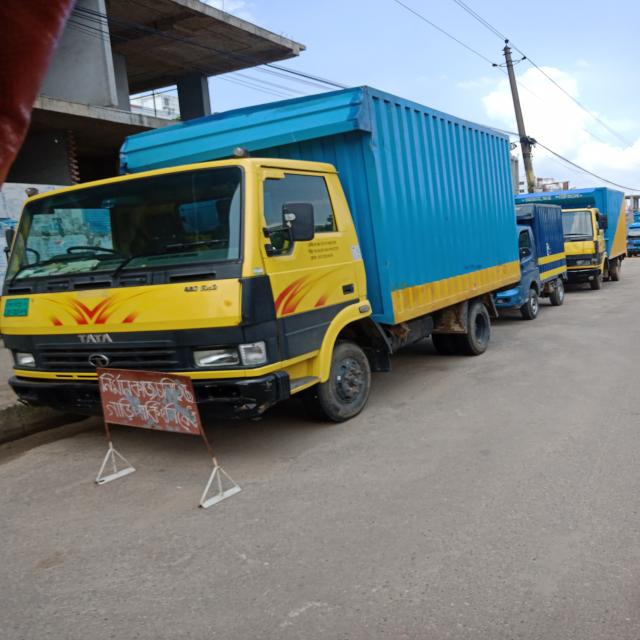truck: (0, 85, 519, 422), (516, 188, 627, 289), (495, 203, 569, 321)
